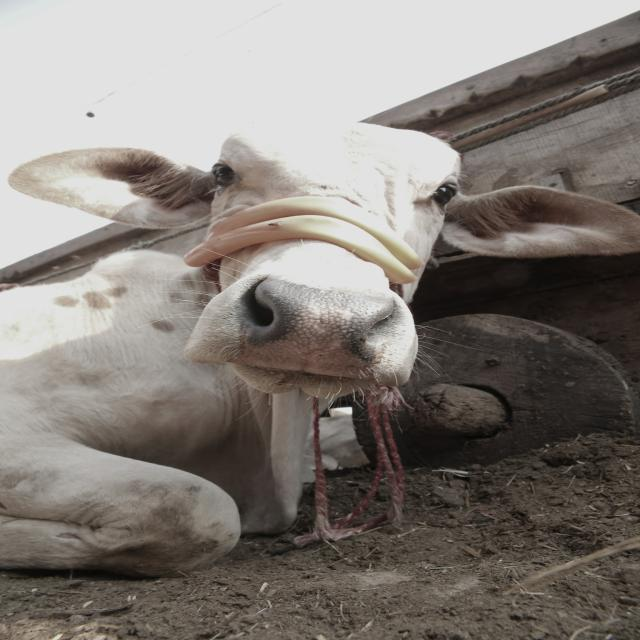muzzles: (217, 268, 414, 383)
